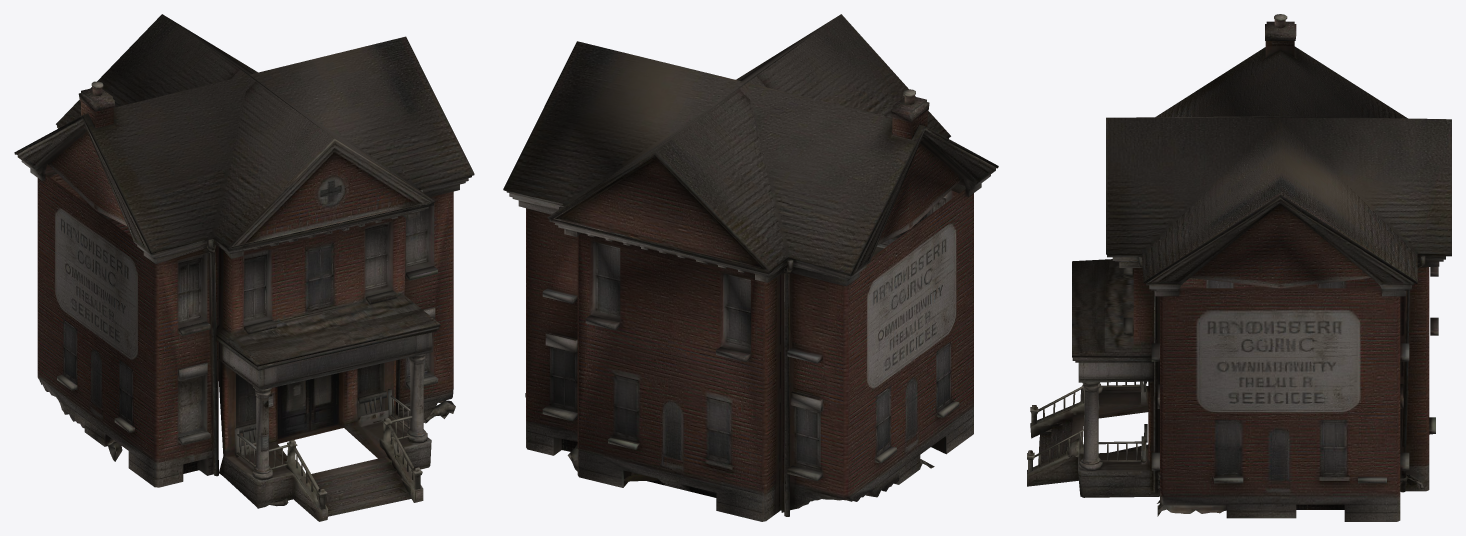
The model's file is town_building_redbrick.glb.
3 views of the same model, side by side, from view 1: azimuth 30°, elevation 25°; view 2: azimuth 150°, elevation 25°; view 3: azimuth 270°, elevation 25° (orthographic). The views are drawn at different scales.
Parts seen in each view (by area): view 1: tripo_node_a355bbfa-866e-4498-9136-edd5d3f92cf3; view 2: tripo_node_a355bbfa-866e-4498-9136-edd5d3f92cf3; view 3: tripo_node_a355bbfa-866e-4498-9136-edd5d3f92cf3.
Part boxes in pixels (x1,y1,x2,y2): tripo_node_a355bbfa-866e-4498-9136-edd5d3f92cf3: [14, 14, 474, 521]; tripo_node_a355bbfa-866e-4498-9136-edd5d3f92cf3: [503, 14, 998, 521]; tripo_node_a355bbfa-866e-4498-9136-edd5d3f92cf3: [1027, 14, 1451, 521].
Bounding box in the file's own units: 0.8769 × 0.9669 × 0.998.
Materials: 1 (1 with a texture image).
